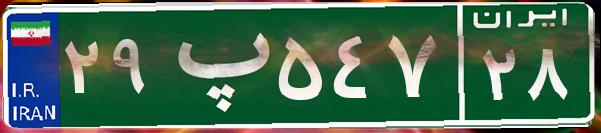2: (57, 26, 110, 107), (475, 38, 525, 113)
4: (330, 28, 385, 110)
5: (273, 28, 330, 110)
7: (385, 28, 445, 110)
8: (525, 38, 570, 115)
9: (110, 28, 158, 105)
پ: (158, 15, 273, 115)
